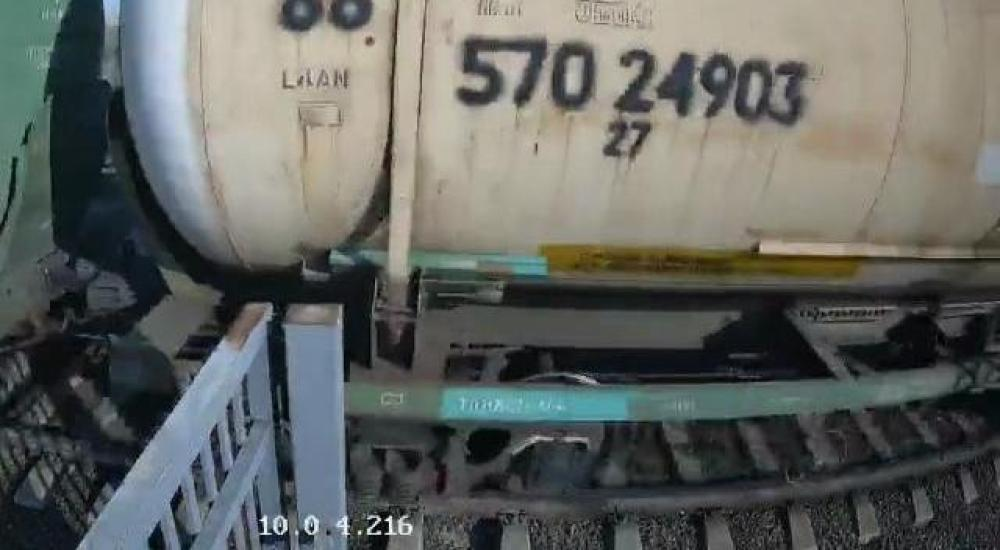Wagon-number: (454, 34, 808, 129)
